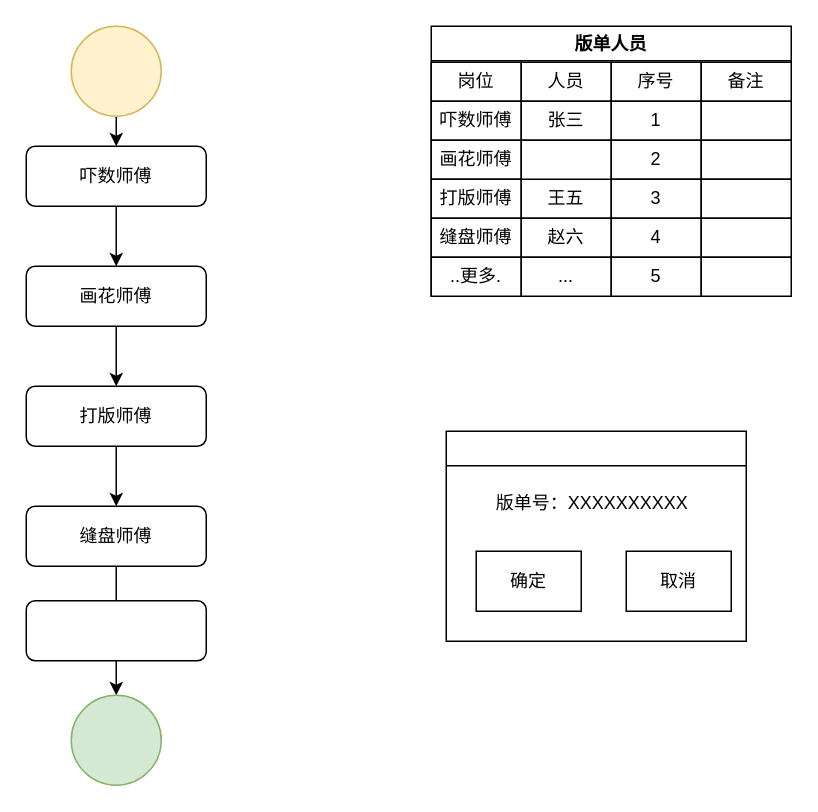
Some shapes in this 818 by 812 pixel diagram are drawn without their labels. The box of each missing label's shape, as (x1, y1, x2, y2) in pixels:
..,更多: (25, 599, 206, 661)
扫码开始: (70, 25, 161, 116)
扫码弹出框: (445, 430, 746, 641)
李四: (520, 139, 611, 191)
结束: (70, 694, 161, 785)
